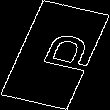P_W: (13, 29, 97, 81)
